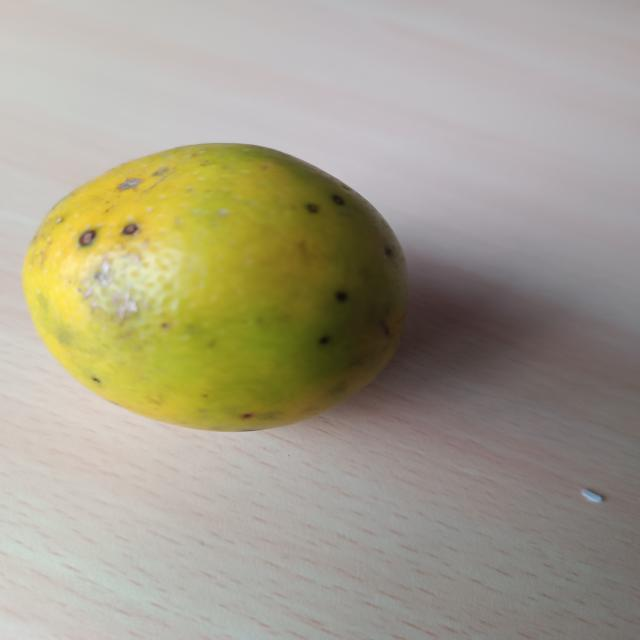Ripe orange: (17, 134, 420, 442)
